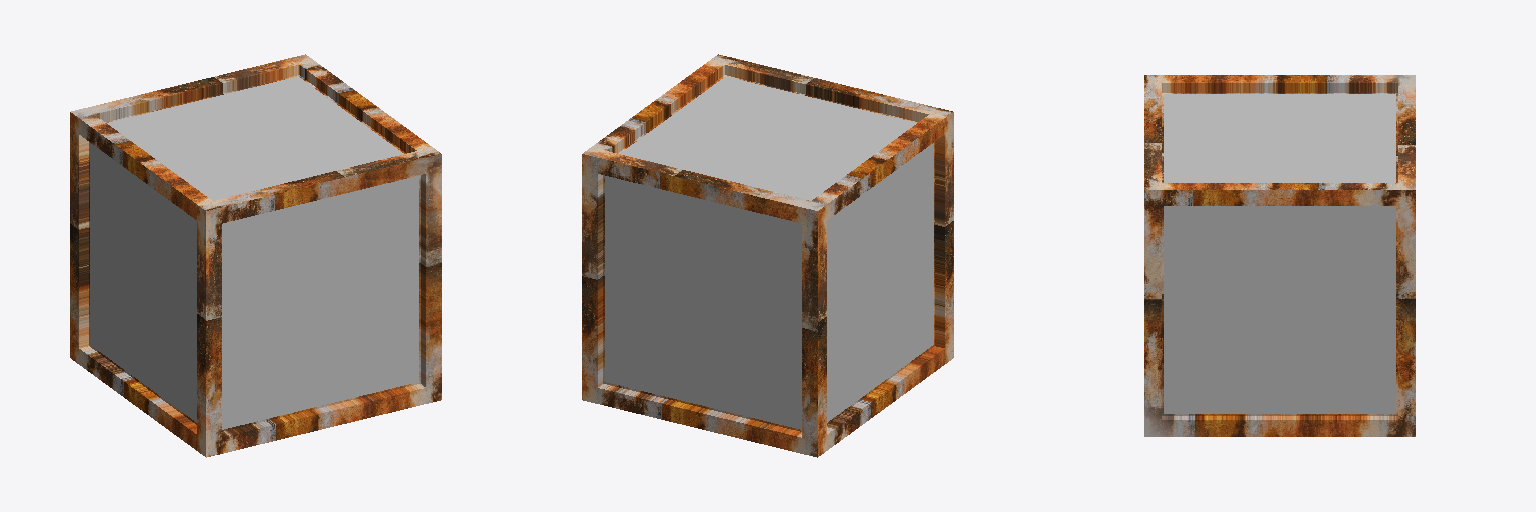
3 views of the same model, side by side, from view 1: azimuth 30°, elevation 25°; view 2: azimuth 150°, elevation 25°; view 3: azimuth 270°, elevation 25° (orthographic).
Visible parts, largest first — view 1: Cube.001_Cube.002; view 2: Cube.001_Cube.002; view 3: Cube.001_Cube.002.
Boxes of the visible parts, x1,y1,x2,y2 form: Cube.001_Cube.002: [70, 54, 441, 457]; Cube.001_Cube.002: [582, 54, 953, 457]; Cube.001_Cube.002: [1144, 75, 1415, 436].
Bounding box in the file's own units: 1 × 1 × 1.
Materials: 1 (1 with a texture image).